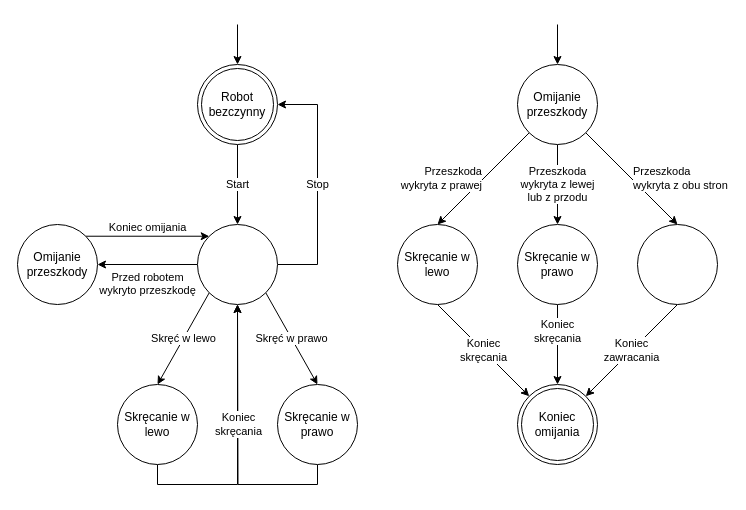
Image size: 746x510. Some labels were removed from this diagram. Here are the shapes that lost their labels. From the top down, the centre of each, then its label:
At [237,264]: "Jazda do przodu".
At [677,264]: "Zawracanie".
